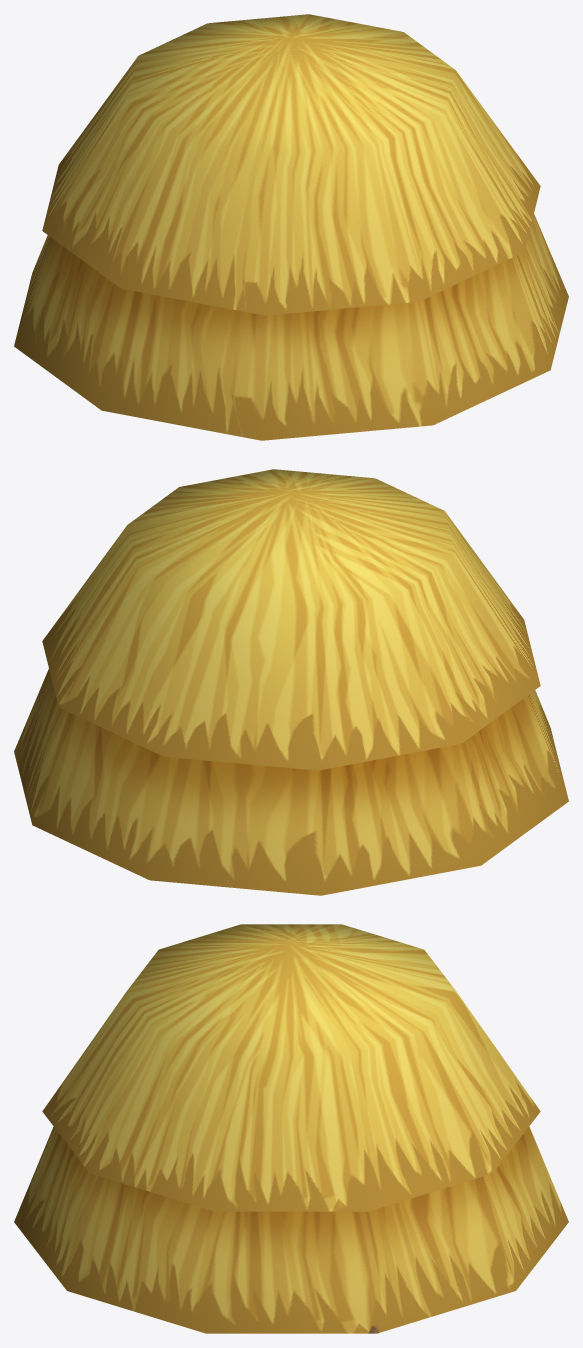
The model's file is hay_stack_03.fbx.
3 renders of one model, top to bottom at view 1: azimuth 30°, elevation 25°; view 2: azimuth 150°, elevation 25°; view 3: azimuth 270°, elevation 25°, orthographic. The views are drawn at different scales.
Visible parts, largest first — view 1: hay_stack_03:Mesh; view 2: hay_stack_03:Mesh; view 3: hay_stack_03:Mesh.
Part boxes in pixels (bbox=[...]): hay_stack_03:Mesh: bbox=[14, 14, 568, 440]; hay_stack_03:Mesh: bbox=[14, 469, 568, 895]; hay_stack_03:Mesh: bbox=[14, 924, 568, 1333].
Size of the model in its own units: 4.59 by 2.66 by 4.83.
